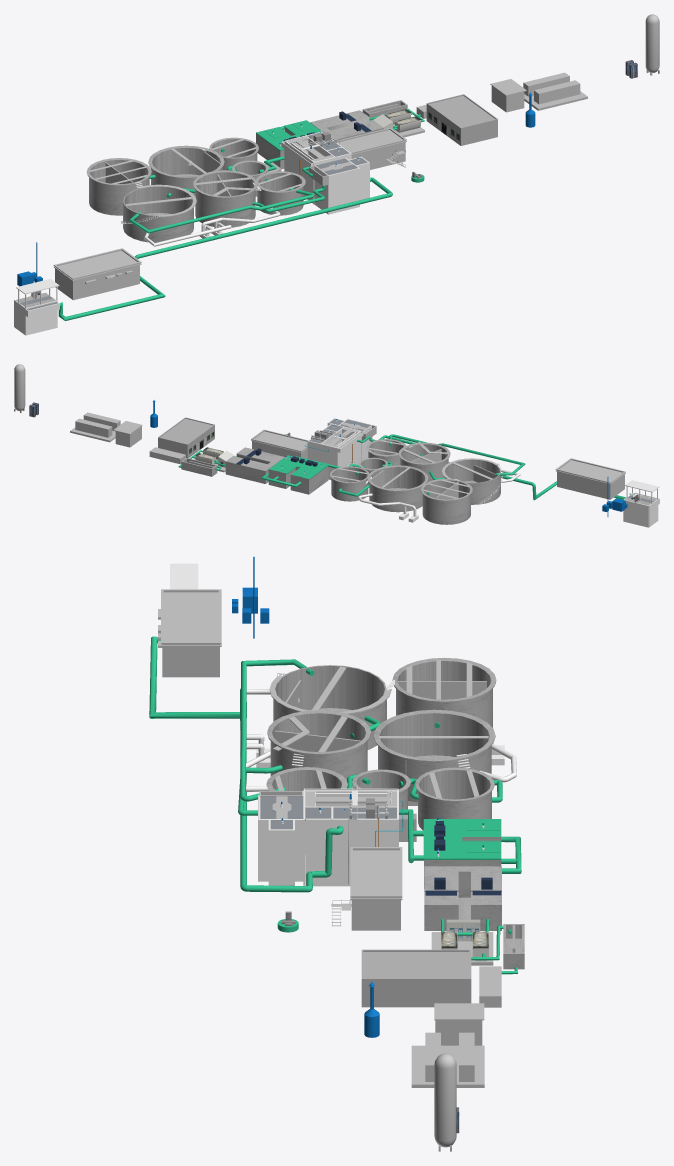
The picture shows the model from 3 angles, top to bottom: view 1: azimuth 30°, elevation 25°; view 2: azimuth 150°, elevation 25°; view 3: azimuth 270°, elevation 25°; orthographic projection. The views are drawn at different scales.
Parts seen in each view (by area): view 1: 配电室.1, 圆柱.1_17, 污泥间, 圆柱.1_14, 扫描, 圆柱.1_15, 配电室, 圆柱.1_16, 圆柱.1_13, 立方体.13_1, 立方体.2_6, 在线监测间 (+8 smaller); view 2: 配电室.1, 圆柱.1_16, 圆柱.1_15, 污泥间, 圆柱.1_17, 立方体.13_1, 配电室, 圆柱.1_12, 立方体_1, 圆柱.1_14, 立方体.10_2, 在线监测间 (+16 smaller); view 3: 污泥间, 圆柱.1_16, 配电室.1, 配电室, 圆柱.1_17, 立方体.13_1, 立方体.14_1, 圆柱.1_14, 圆柱.1_12, 扫描, 圆柱.1_15, 圆柱.1_1 (+17 smaller).
Boxes of the visible parts, <box> form: 配电室.1: <box>53,248,141,300</box>; 圆柱.1_17: <box>123,186,193,242</box>; 污泥间: <box>426,94,497,145</box>; 圆柱.1_14: <box>195,172,255,227</box>; 扫描: <box>58,148,392,320</box>; 圆柱.1_15: <box>89,159,149,215</box>; 配电室: <box>336,127,406,169</box>; 圆柱.1_16: <box>151,147,221,195</box>; 圆柱.1_13: <box>257,172,303,215</box>; 立方体.13_1: <box>310,110,383,140</box>; 立方体.2_6: <box>328,168,358,214</box>; 在线监测间: <box>490,79,526,112</box>; 配电室.1: <box>555,458,625,499</box>; 圆柱.1_16: <box>369,466,425,512</box>; 圆柱.1_15: <box>422,480,470,524</box>; 污泥间: <box>158,417,214,457</box>; 圆柱.1_17: <box>444,459,500,504</box>; 立方体.13_1: <box>225,447,284,483</box>; 配电室: <box>251,429,307,458</box>; 圆柱.1_12: <box>331,467,368,501</box>; 立方体_1: <box>268,466,328,494</box>; 圆柱.1_14: <box>400,444,448,482</box>; 立方体.10_2: <box>308,441,337,479</box>; 在线监测间: <box>113,421,142,447</box>; 污泥间: <box>361,949,471,1007</box>; 圆柱.1_16: <box>378,712,491,802</box>; 配电室.1: <box>158,589,221,677</box>; 配电室: <box>350,847,402,930</box>; 圆柱.1_17: <box>273,665,386,749</box>; 立方体.13_1: <box>424,866,501,930</box>; 立方体.14_1: <box>306,818,398,886</box>; 圆柱.1_14: <box>270,712,367,788</box>; 圆柱.1_12: <box>418,769,491,830</box>; 扫描: <box>149,636,343,892</box>; 圆柱.1_15: <box>396,660,492,727</box>; 圆柱.1_1: <box>434,1053,456,1147</box>.
Size of the model in its own units: 25.78 by 2.88 by 7.28.
